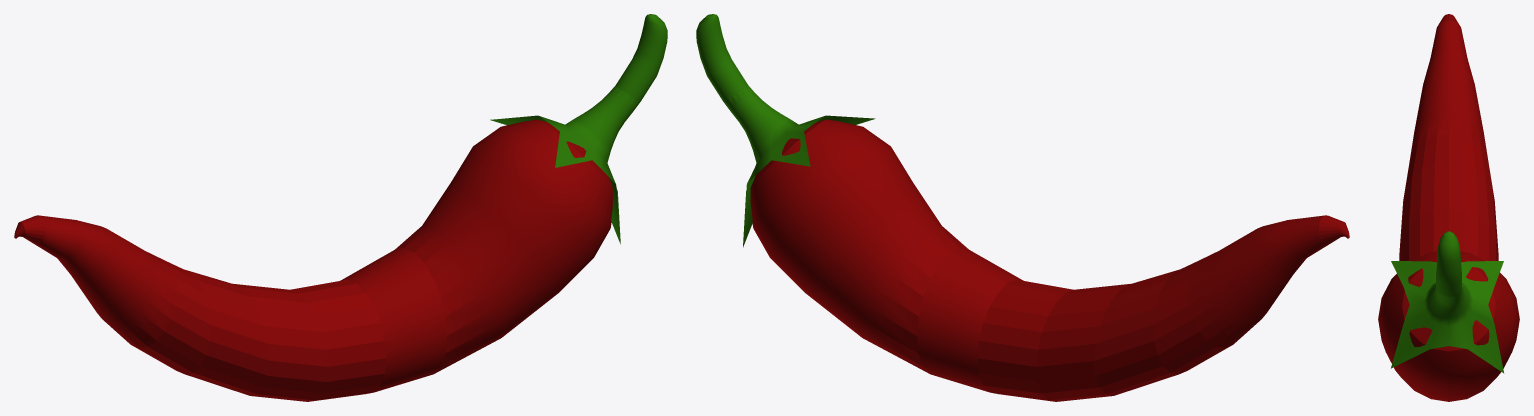
The model's file is sILI.fbx.
The picture shows the model from 3 angles, left to right: view 1: azimuth 30°, elevation 25°; view 2: azimuth 150°, elevation 25°; view 3: azimuth 270°, elevation 25°; orthographic projection. The views are drawn at different scales.
Parts seen in each view (by area): view 1: pCylinder1, pCylinder2; view 2: pCylinder1, pCylinder2; view 3: pCylinder1, pCylinder2.
Boxes of the visible parts, <box> form: pCylinder1: <box>14,119,612,401</box>; pCylinder2: <box>490,14,667,244</box>; pCylinder1: <box>750,119,1349,401</box>; pCylinder2: <box>696,14,875,247</box>; pCylinder1: <box>1378,14,1519,401</box>; pCylinder2: <box>1391,231,1504,373</box>.
Size of the model in its own units: 11.28 by 5.03 by 2.47.
